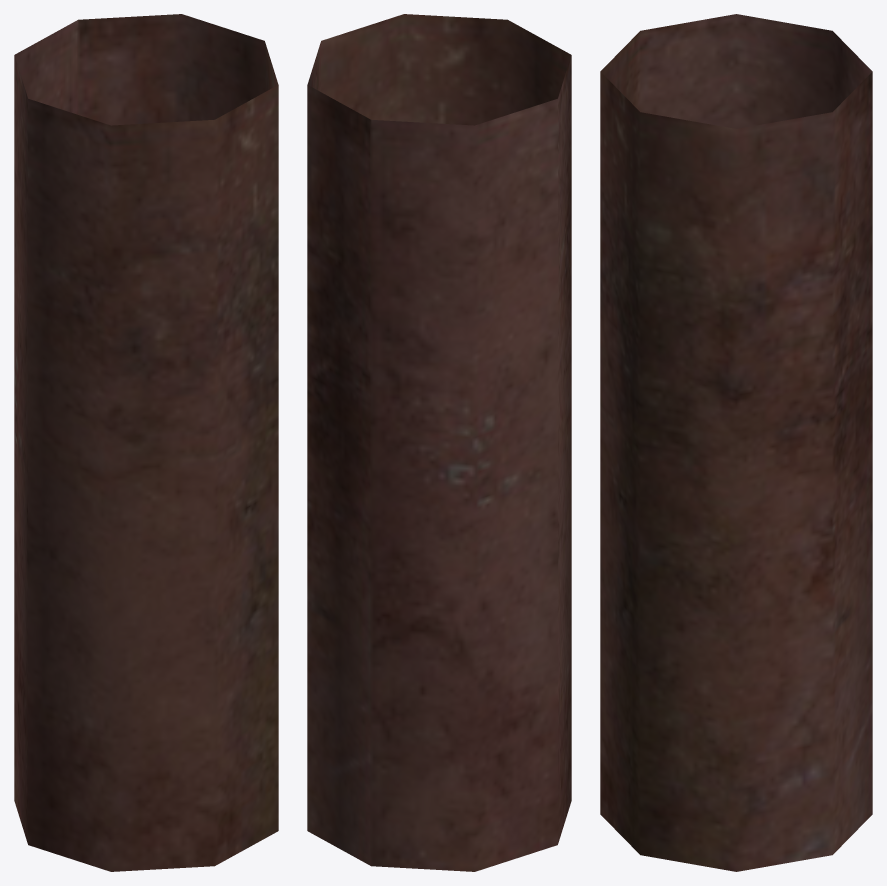
The model's file is RustyThick_M.FBX.
The picture shows the model from 3 angles, left to right: view 1: azimuth 30°, elevation 25°; view 2: azimuth 150°, elevation 25°; view 3: azimuth 270°, elevation 25°; orthographic projection.
Parts seen in each view (by area): view 1: RustyThick_M; view 2: RustyThick_M; view 3: RustyThick_M.
Boxes of the visible parts, x1,y1,x2,y2 form: RustyThick_M: [14, 14, 278, 871]; RustyThick_M: [307, 14, 571, 871]; RustyThick_M: [600, 14, 872, 871].
Size of the model in its own units: 51.77 by 156 by 51.77.
